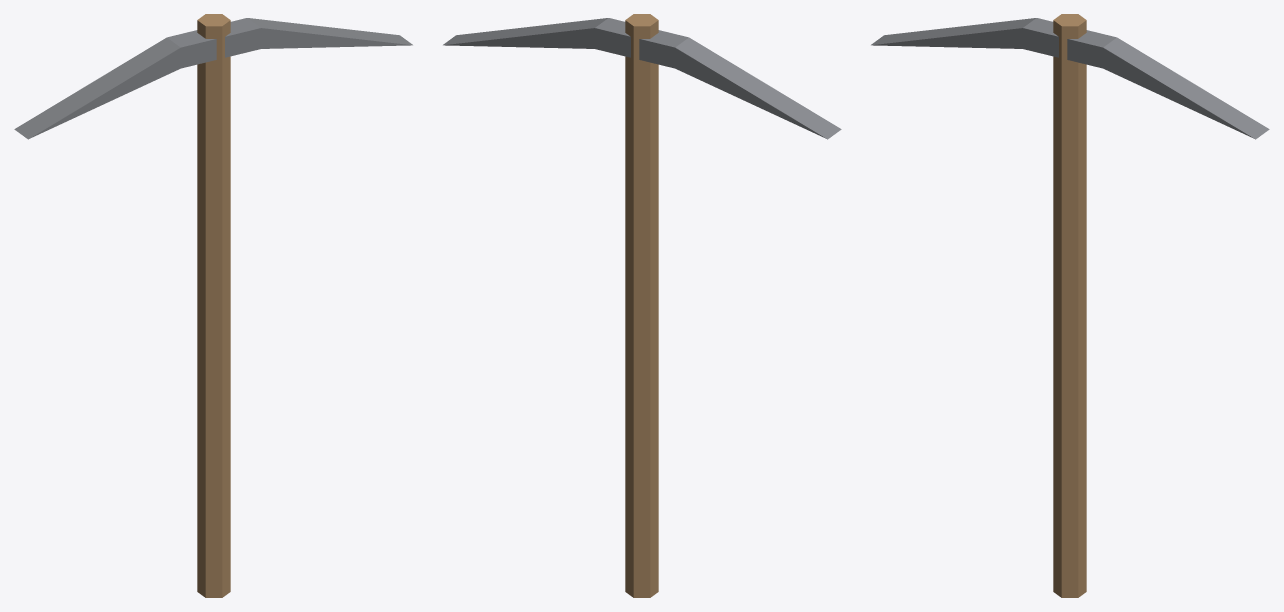
The model's file is picareta.glb.
3 renders of one model, left to right at view 1: azimuth 30°, elevation 25°; view 2: azimuth 150°, elevation 25°; view 3: azimuth 330°, elevation 25°, orthographic.
Parts seen in each view (by area): view 1: picareta; view 2: picareta; view 3: picareta.
Boxes of the visible parts, x1,y1,x2,y2 form: picareta: (14, 14, 412, 597); picareta: (443, 14, 841, 597); picareta: (871, 14, 1269, 597).
Bounding box in the file's own units: 0.48 × 0.68 × 0.036.
